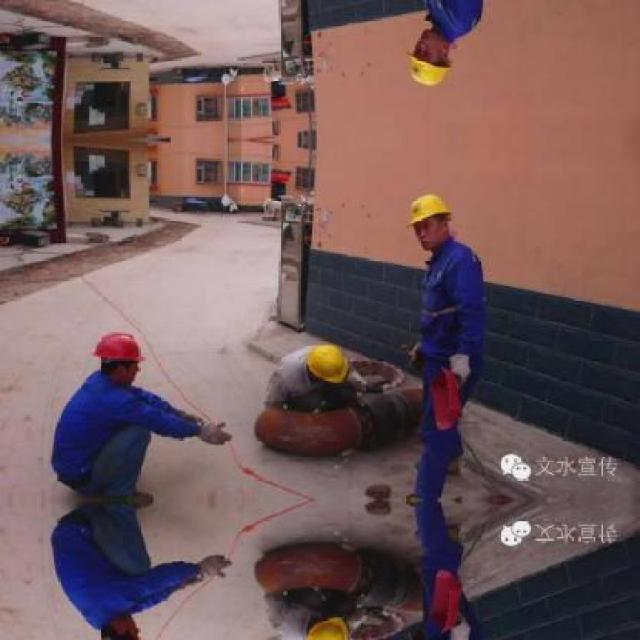helmet: (91, 325, 146, 383), (404, 188, 454, 249), (404, 28, 454, 89), (300, 340, 352, 383), (91, 614, 146, 638), (300, 614, 352, 638)
